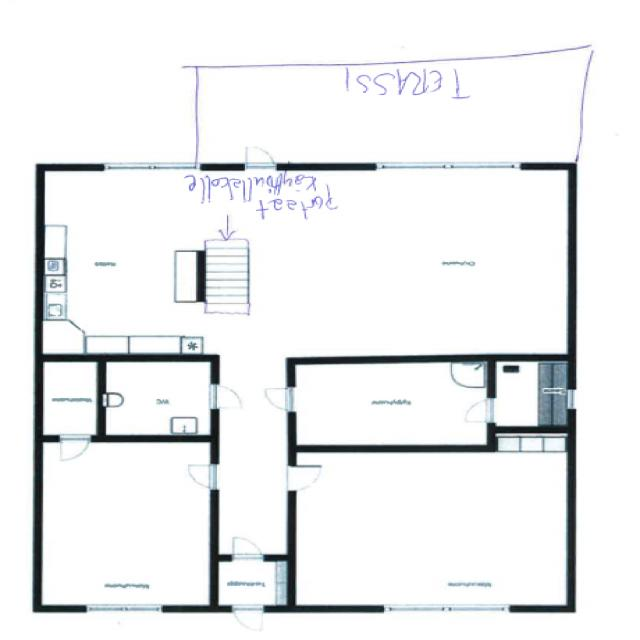door: (52, 434, 94, 466), (282, 463, 327, 492), (228, 603, 269, 634), (261, 383, 302, 414), (206, 382, 247, 412), (240, 142, 282, 171), (181, 460, 221, 490), (458, 396, 498, 426), (229, 534, 265, 562)
window: (374, 156, 524, 176), (381, 600, 513, 618), (94, 156, 207, 176), (78, 600, 169, 618), (562, 386, 580, 416)
zone: (286, 446, 580, 608), (36, 438, 214, 609), (39, 183, 199, 357), (290, 360, 490, 450), (100, 360, 214, 438), (492, 359, 572, 431), (37, 359, 99, 438)
